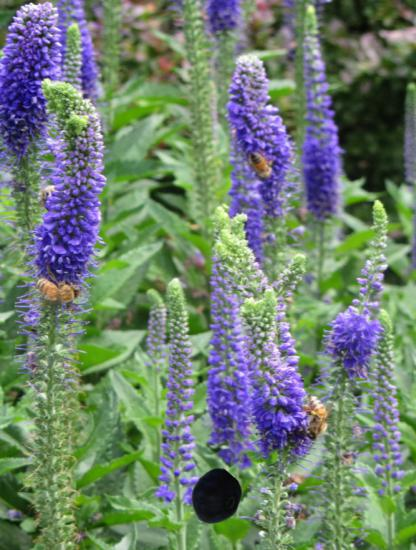Blueberry: (188, 470, 244, 526)
